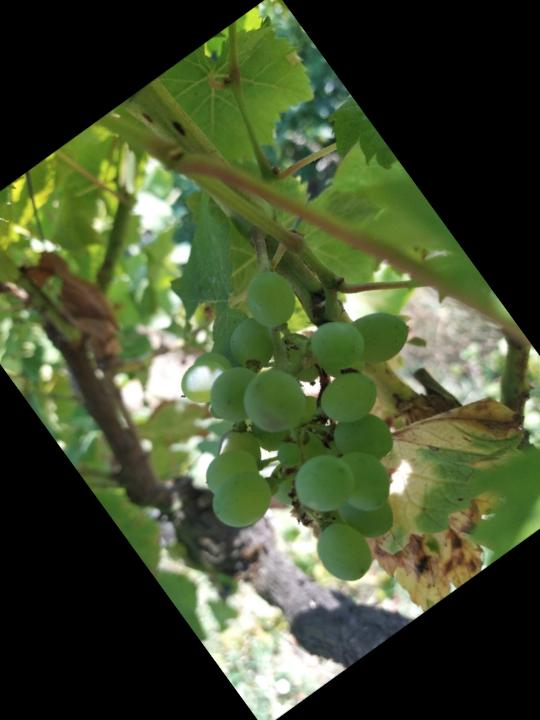grape: (111, 218, 515, 629)
